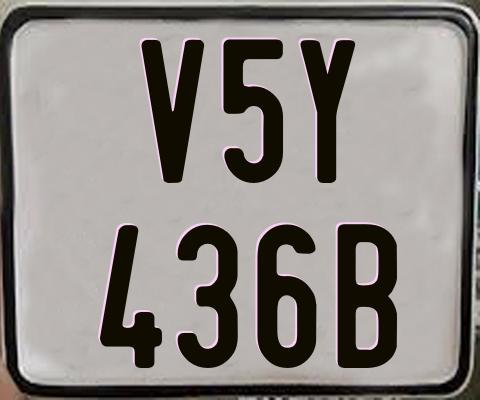3: (177, 224, 238, 372)
4: (97, 222, 163, 365)
5: (221, 39, 282, 187)
6: (255, 221, 316, 367)
B: (335, 224, 399, 369)
V: (138, 40, 205, 189)
Y: (300, 38, 360, 184)
